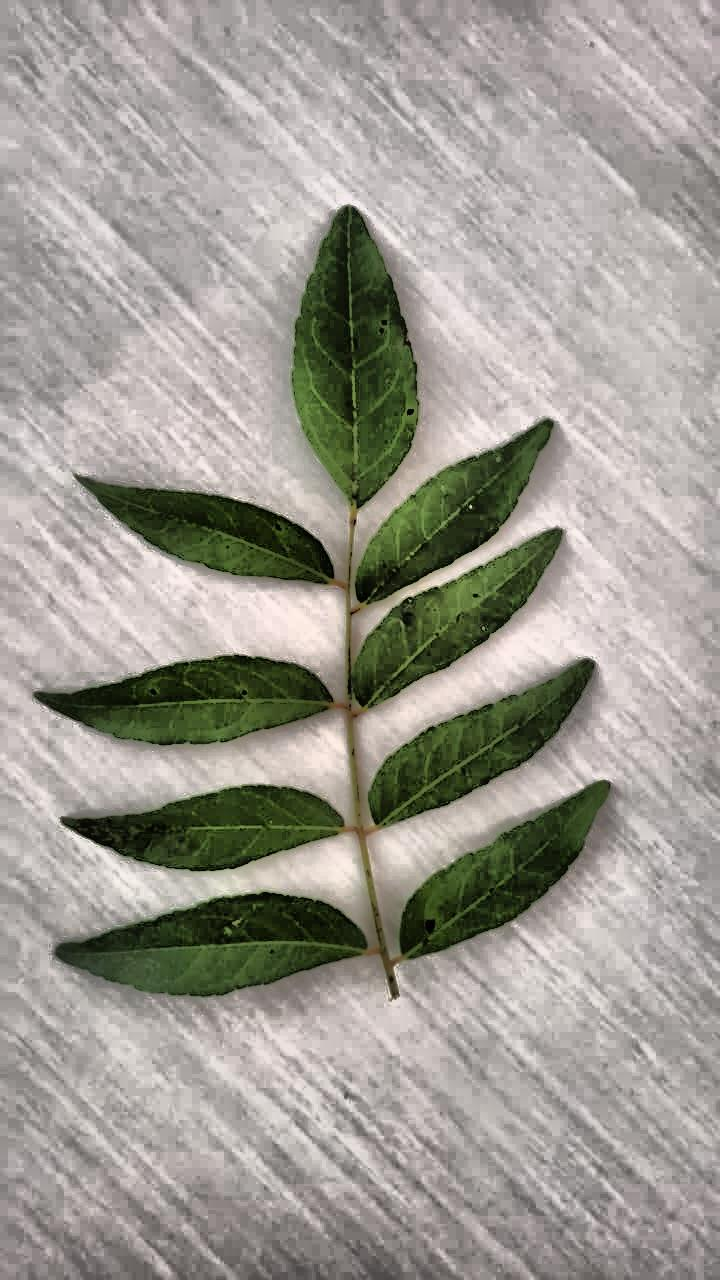daun kari: (37, 207, 608, 996)
